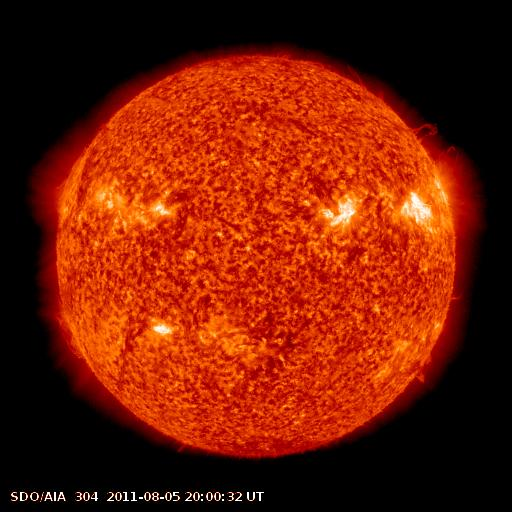prominence: (293, 51, 374, 94), (47, 307, 92, 363), (398, 114, 443, 147), (407, 367, 429, 390)
